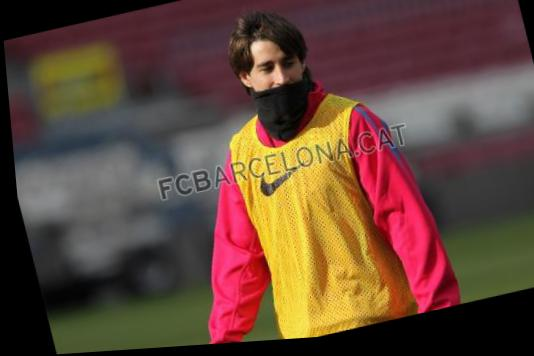WRONG: (245, 53, 310, 117)
